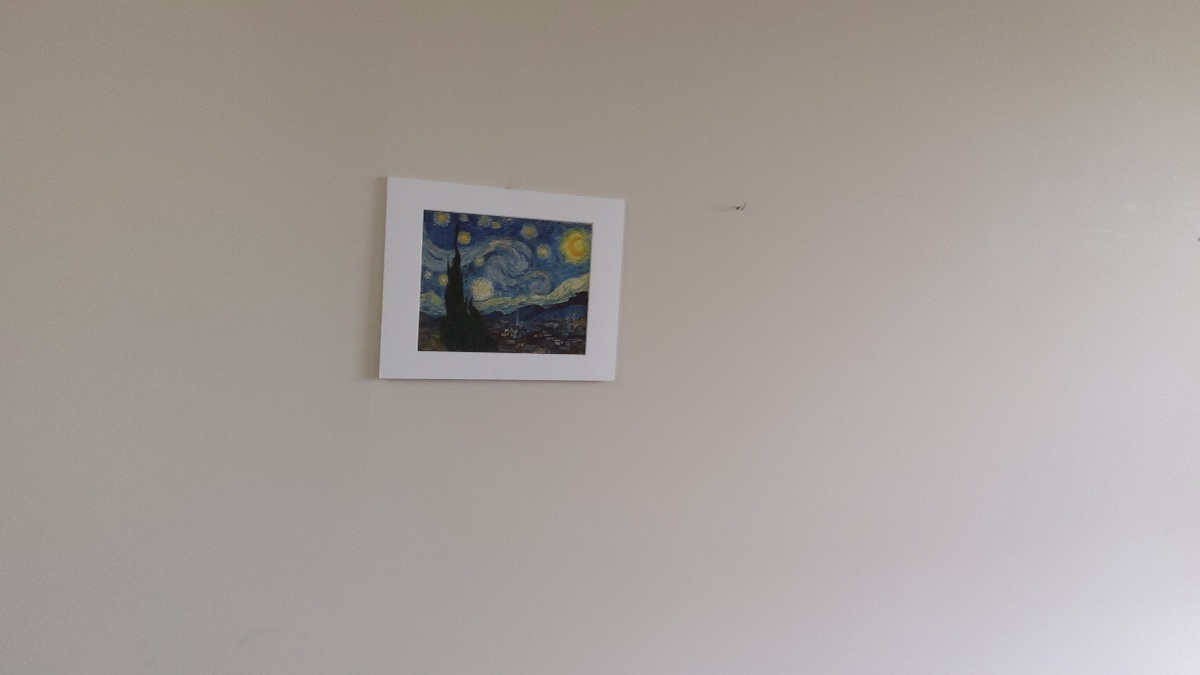painting: (408, 202, 596, 364)
